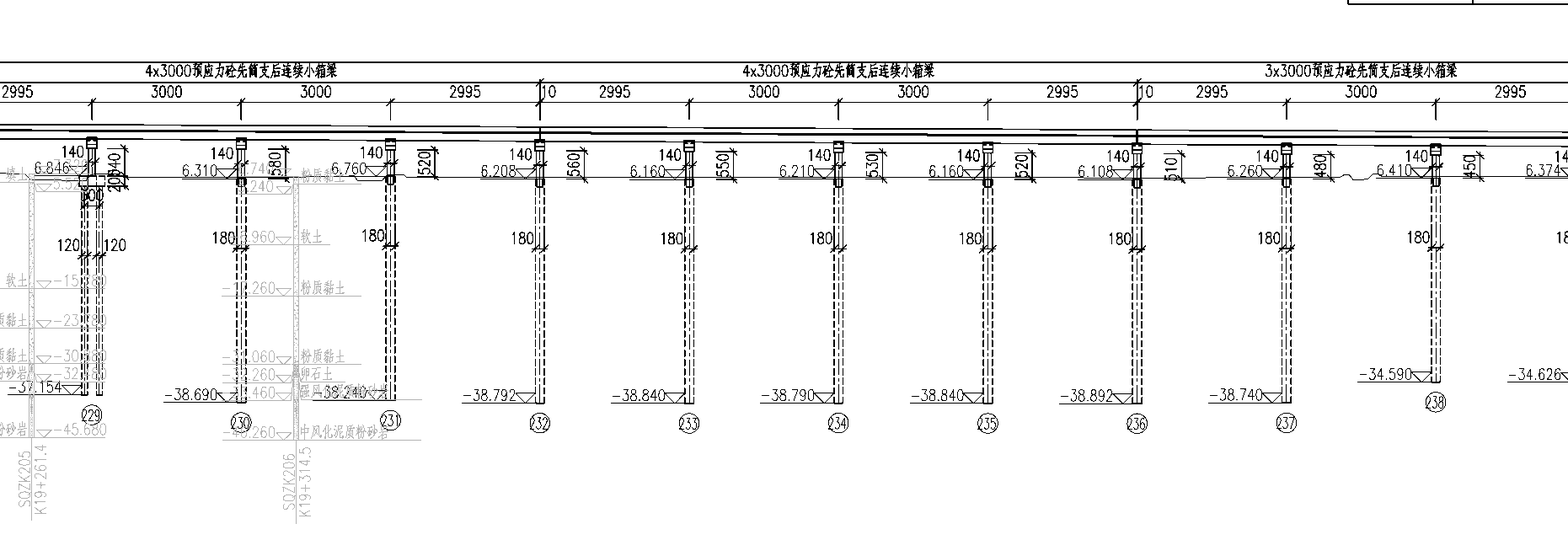B: (540, 55, 1143, 96), (0, 55, 553, 95), (1132, 52, 1556, 97)
C: (3, 130, 116, 432), (159, 130, 265, 439), (1205, 134, 1308, 441), (757, 133, 859, 441), (1057, 134, 1159, 441), (609, 132, 710, 441), (909, 134, 1010, 440), (463, 131, 561, 441), (313, 131, 412, 436), (1352, 136, 1457, 420), (1501, 138, 1567, 429)
